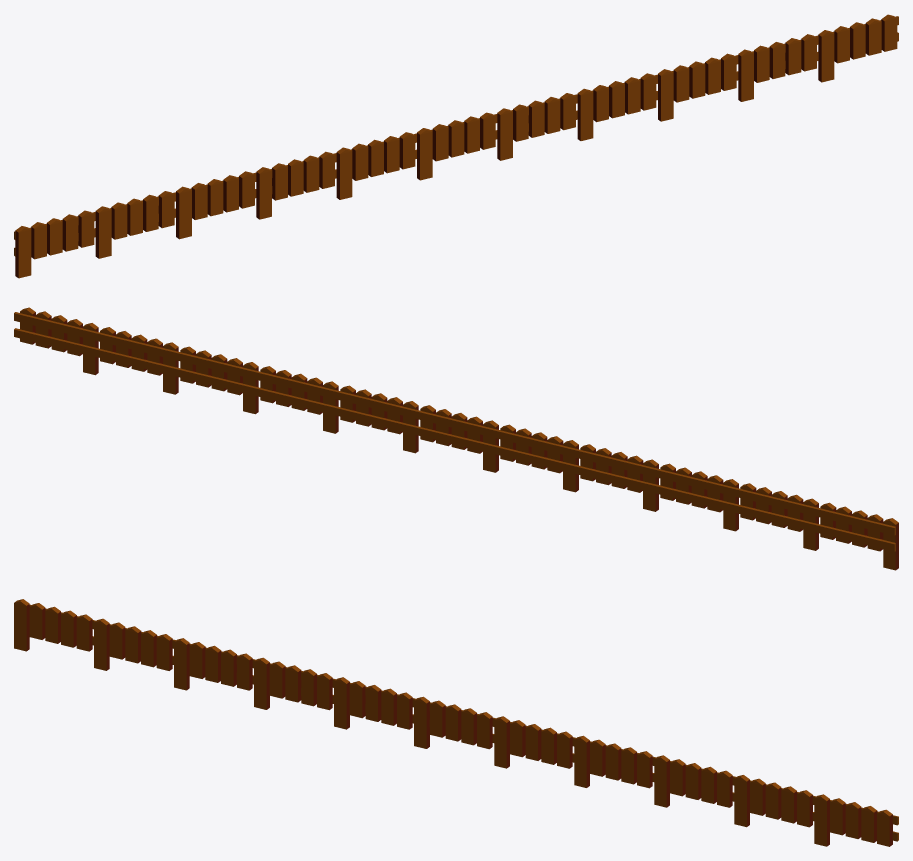
The model's file is fence.glb.
The picture shows the model from 3 angles, top to bottom: view 1: azimuth 30°, elevation 25°; view 2: azimuth 150°, elevation 25°; view 3: azimuth 330°, elevation 25°; orthographic projection.
Parts seen in each view (by area): view 1: FecneShort; view 2: FecneShort; view 3: FecneShort.
Boxes of the visible parts, x1,y1,x2,y2 form: FecneShort: (14, 14, 898, 278); FecneShort: (14, 307, 898, 570); FecneShort: (14, 599, 898, 846).
Bounding box in the file's own units: 11 × 0.5814 × 0.0977.
